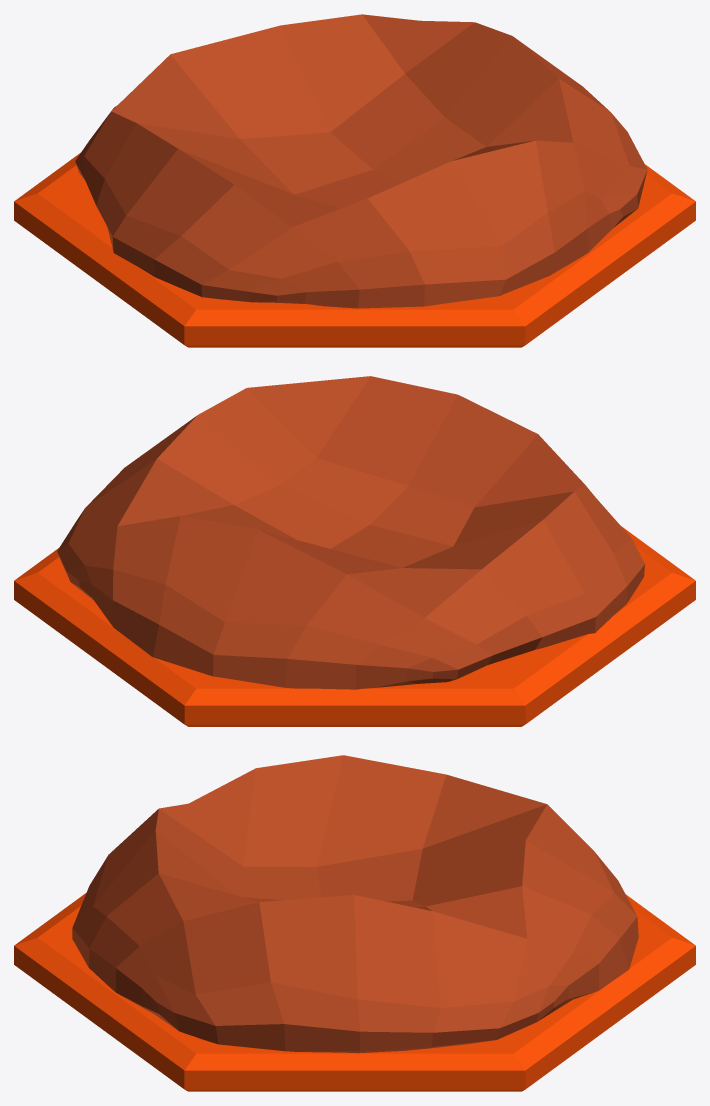
The model's file is brick.fbx.
3 views of the same model, one above another, from view 1: azimuth 30°, elevation 25°; view 2: azimuth 150°, elevation 25°; view 3: azimuth 270°, elevation 25° (orthographic).
Parts seen in each view (by area): view 1: Tile; view 2: Tile; view 3: Tile.
Part boxes in pixels (box(x1,y1,x2,y2)): Tile: box(14, 14, 695, 347); Tile: box(14, 376, 695, 726); Tile: box(14, 755, 695, 1091).
Size of the model in its own units: 482 by 137 by 557.
